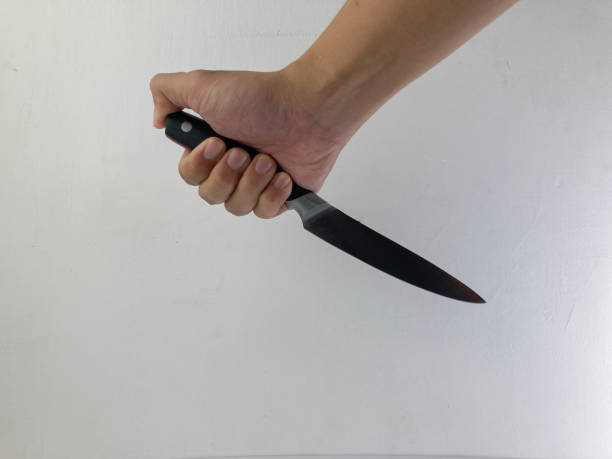knife: (162, 108, 487, 306)
